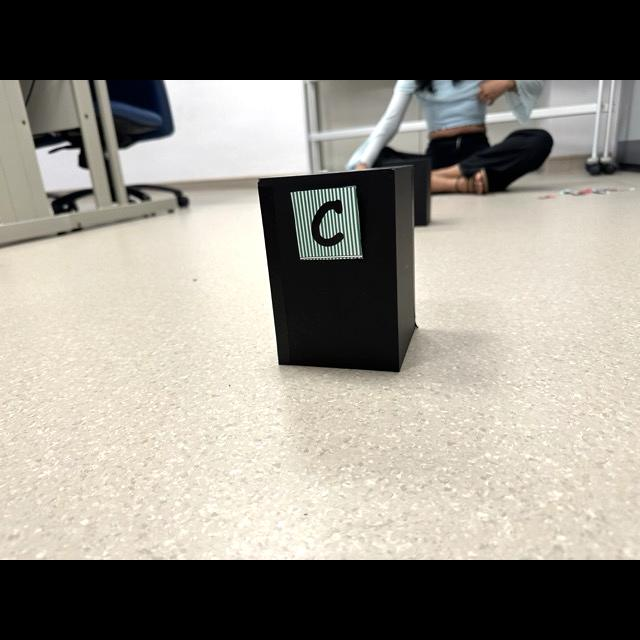C: (312, 200, 344, 247)
